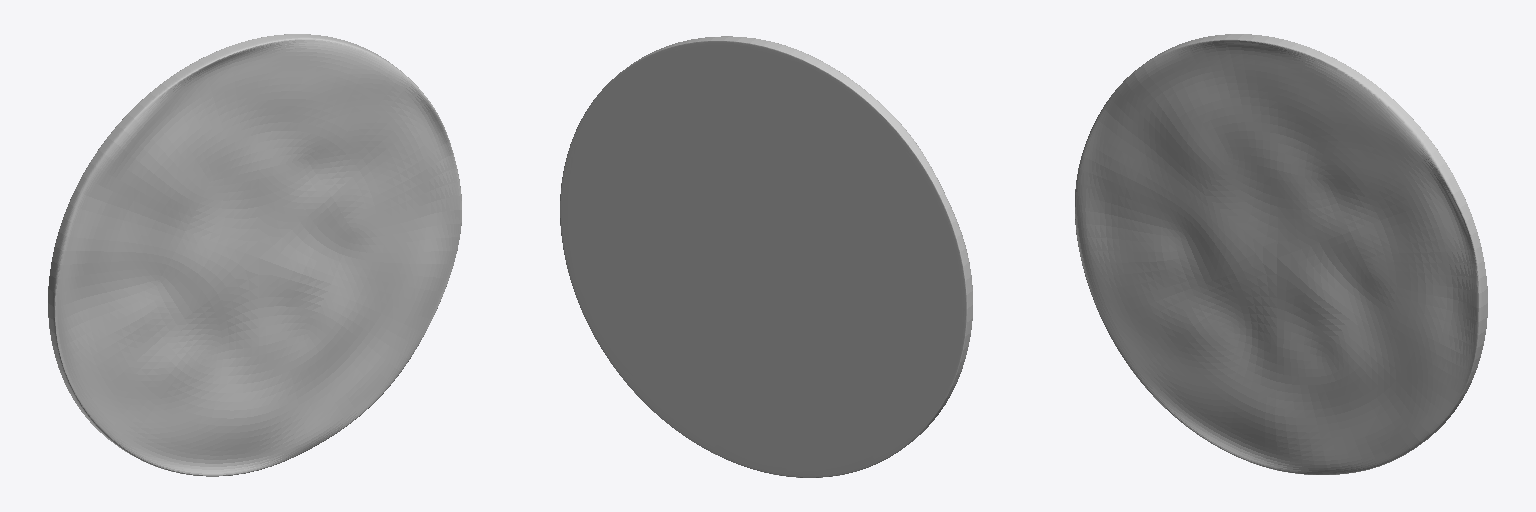
Rendered from grass4.obj.
3 views of the same model, side by side, from view 1: azimuth 30°, elevation 25°; view 2: azimuth 150°, elevation 25°; view 3: azimuth 330°, elevation 25° (orthographic).
Bounding box in the file's own units: 28.68 × 28.68 × 1.15.